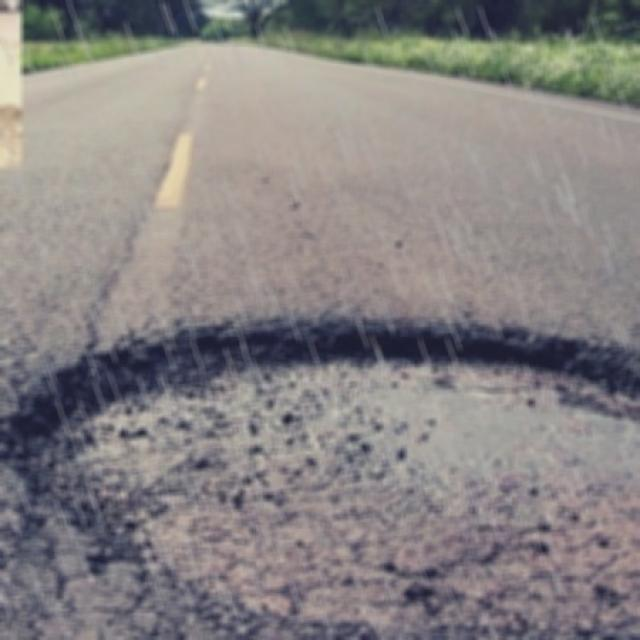road-pothole: (0, 323, 639, 639)
